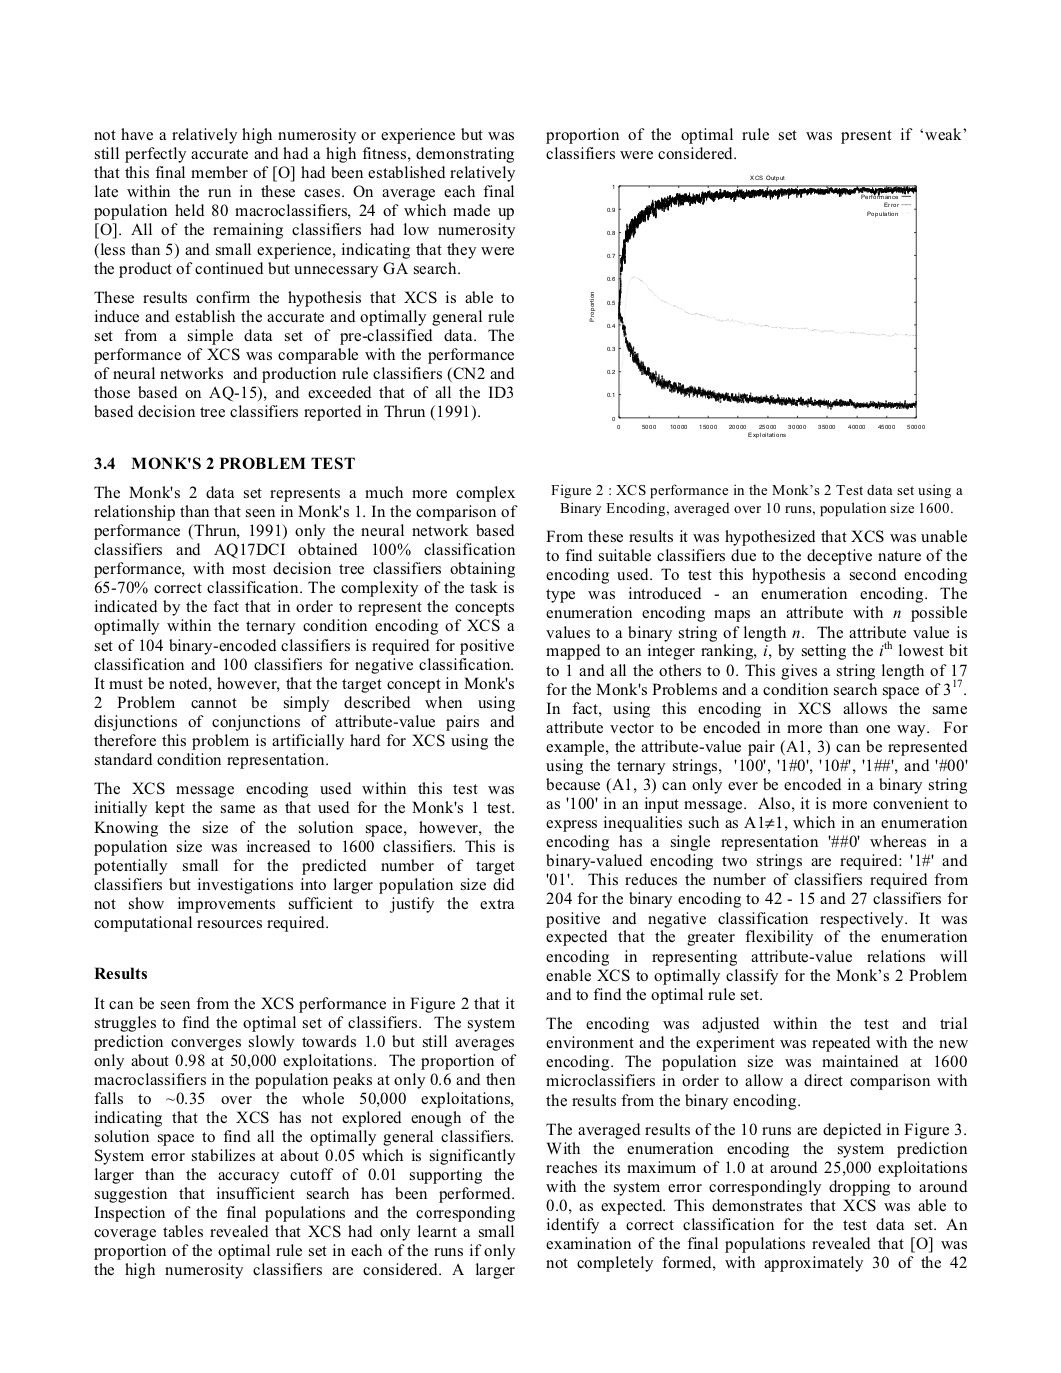figure: (588, 175, 924, 438)
